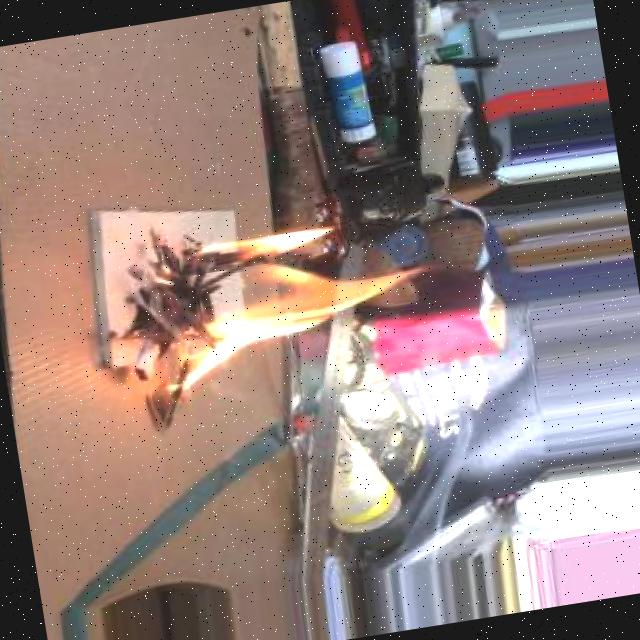fire: (156, 207, 447, 388)
